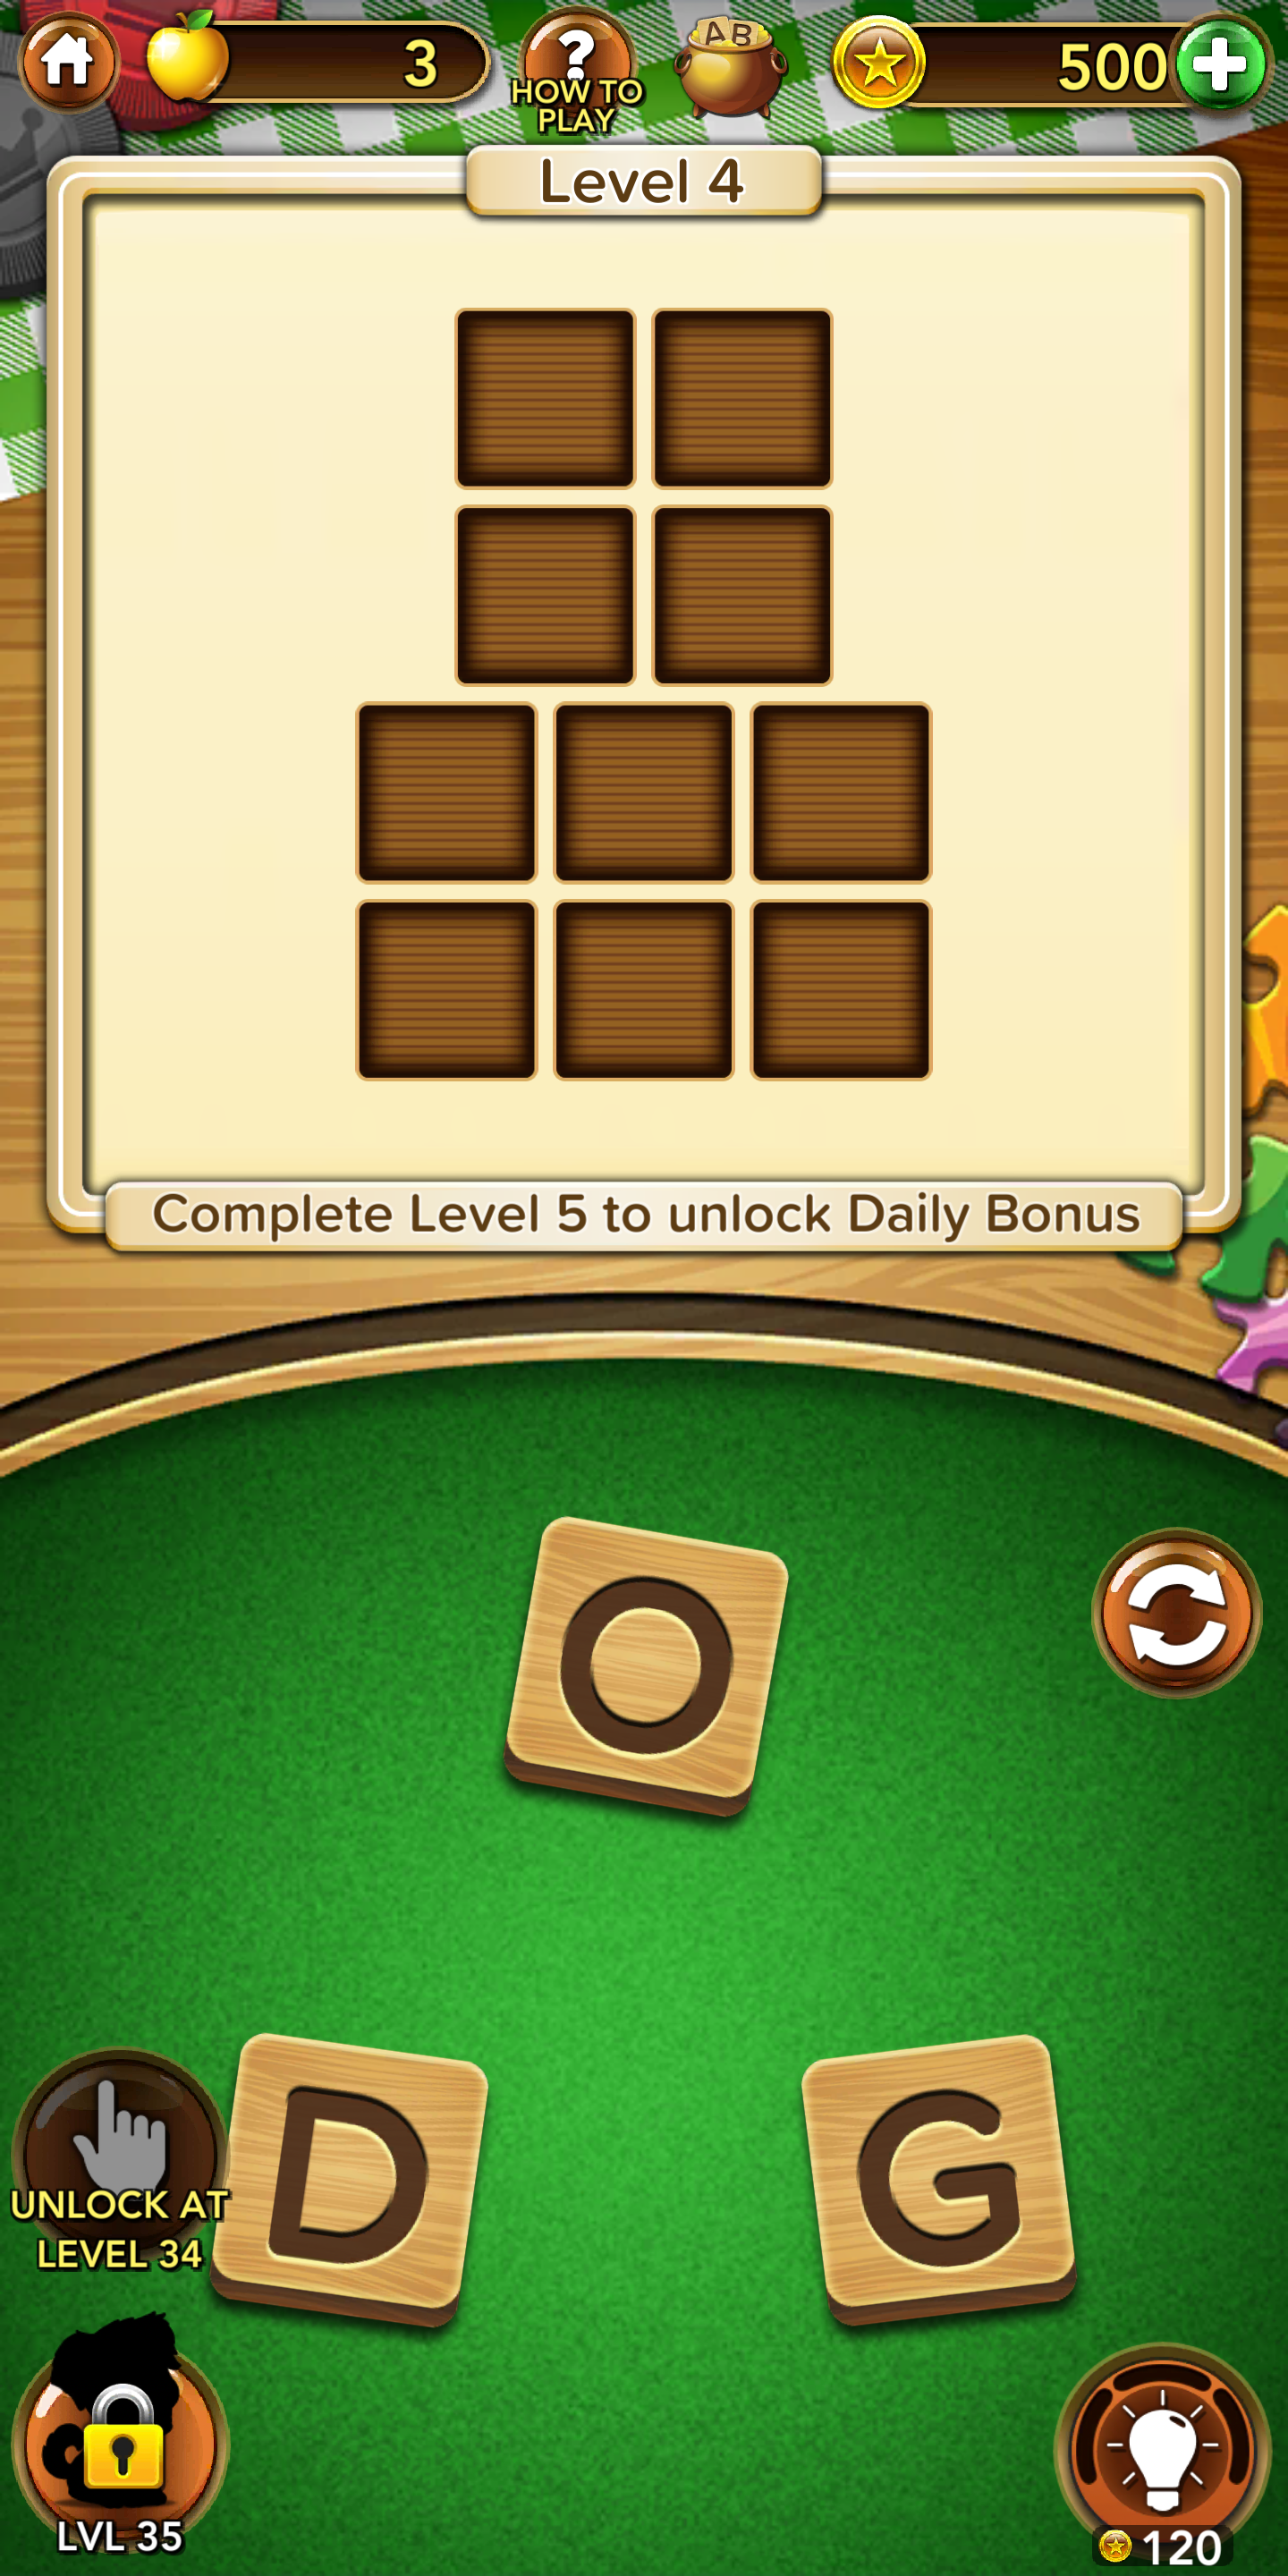tile: (508, 1515, 787, 1819), (800, 2034, 1078, 2326), (230, 2031, 488, 2330)
